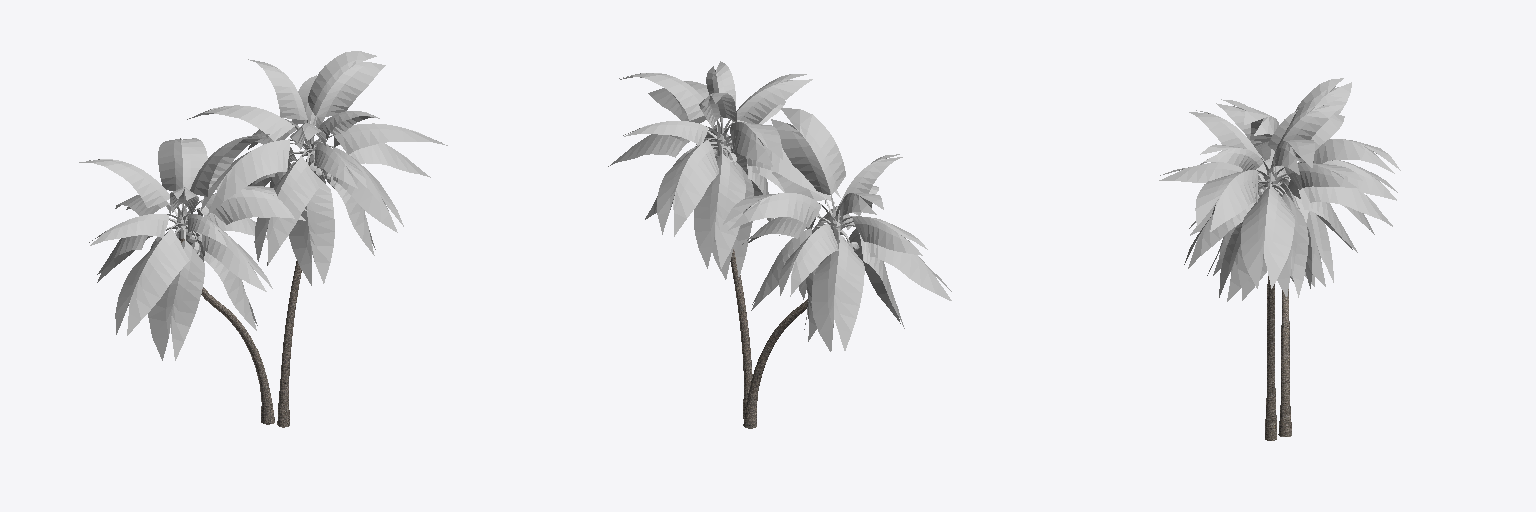
The picture shows the model from 3 angles: view 1: azimuth 30°, elevation 25°; view 2: azimuth 150°, elevation 25°; view 3: azimuth 270°, elevation 25°; orthographic projection.
Parts seen in each view (by area): view 1: Tree_2, Tree_0, Tree_3; view 2: Tree_2, Tree_0, Tree_3; view 3: Tree_2, Tree_0.
Part boxes in pixels (left/top/right/bottom): Tree_2: left=79, top=51, right=447, bottom=360; Tree_0: left=179, top=165, right=309, bottom=427; Tree_3: left=166, top=113, right=337, bottom=241; Tree_2: left=608, top=61, right=951, bottom=351; Tree_0: left=730, top=249, right=807, bottom=428; Tree_3: left=695, top=115, right=855, bottom=243; Tree_2: left=1159, top=78, right=1400, bottom=301; Tree_0: left=1265, top=276, right=1291, bottom=440.
Size of the model in its own units: 630 by 628 by 402.
5 materials, 1 textured.